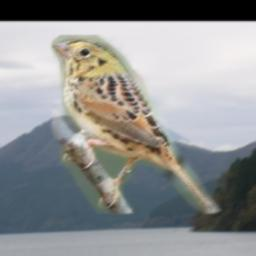Sparrow: (51, 35, 221, 214)
